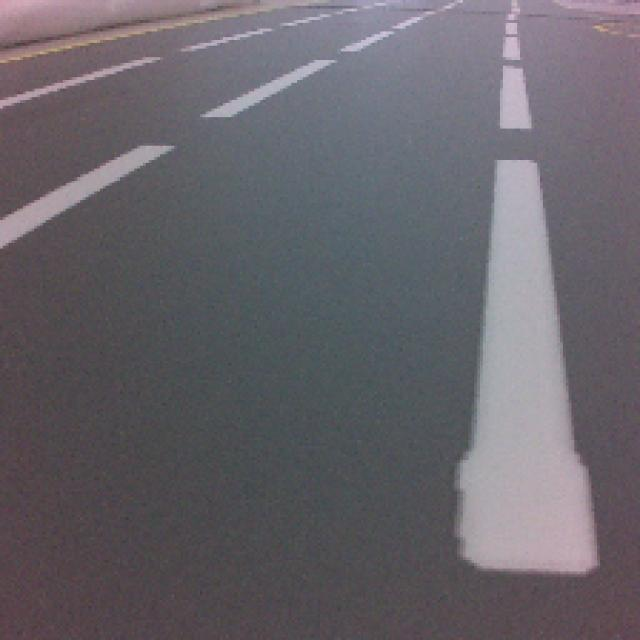Road: (0, 143, 499, 640)
